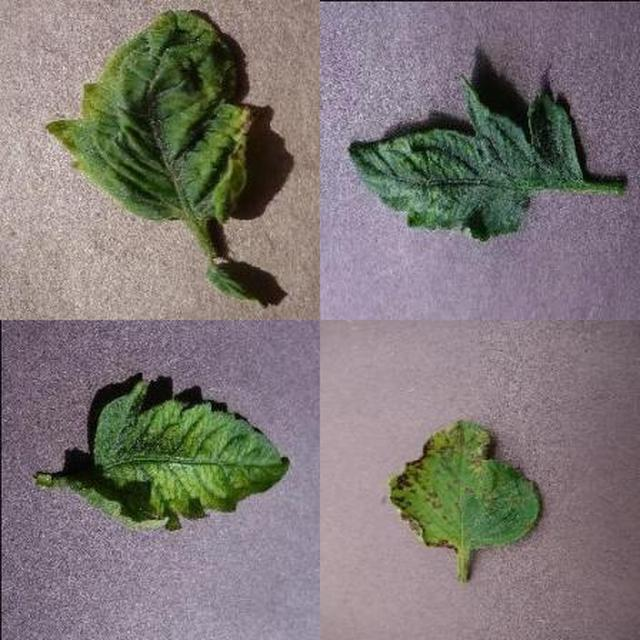Yellow Leaf Curl Virus: (214, 167, 640, 640)
